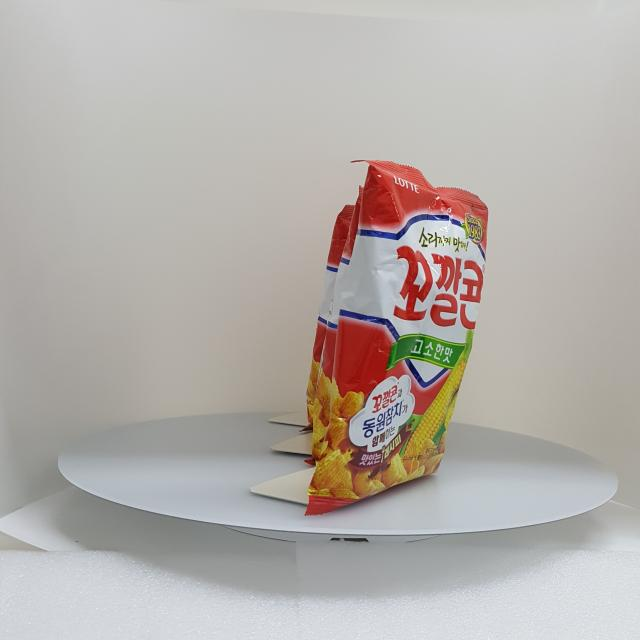-72G: (304, 160, 489, 517)
